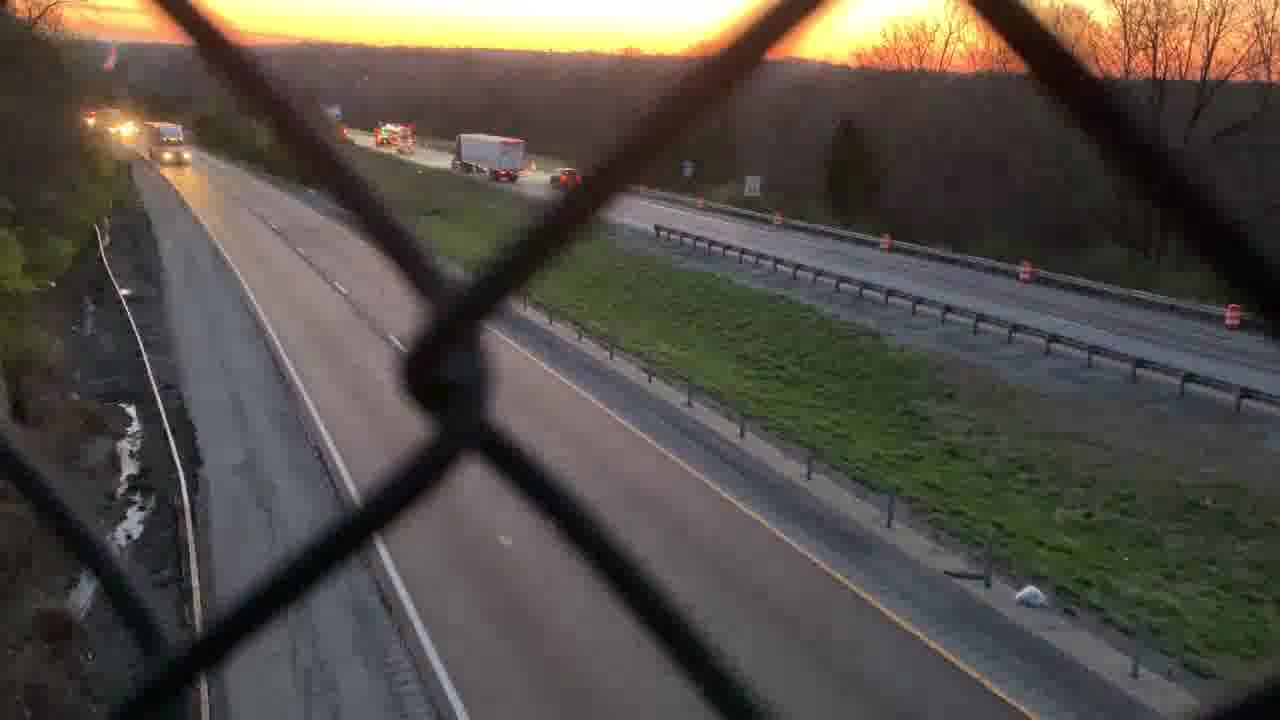heavyTruck: (454, 128, 527, 177)
